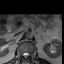CCS_normal: (24, 49, 27, 61)
LFS_normal: (29, 51, 31, 59)
LLS_normal: (27, 50, 29, 59)
RFS_normal: (20, 50, 22, 58)
RLS_normal: (22, 50, 24, 58)
